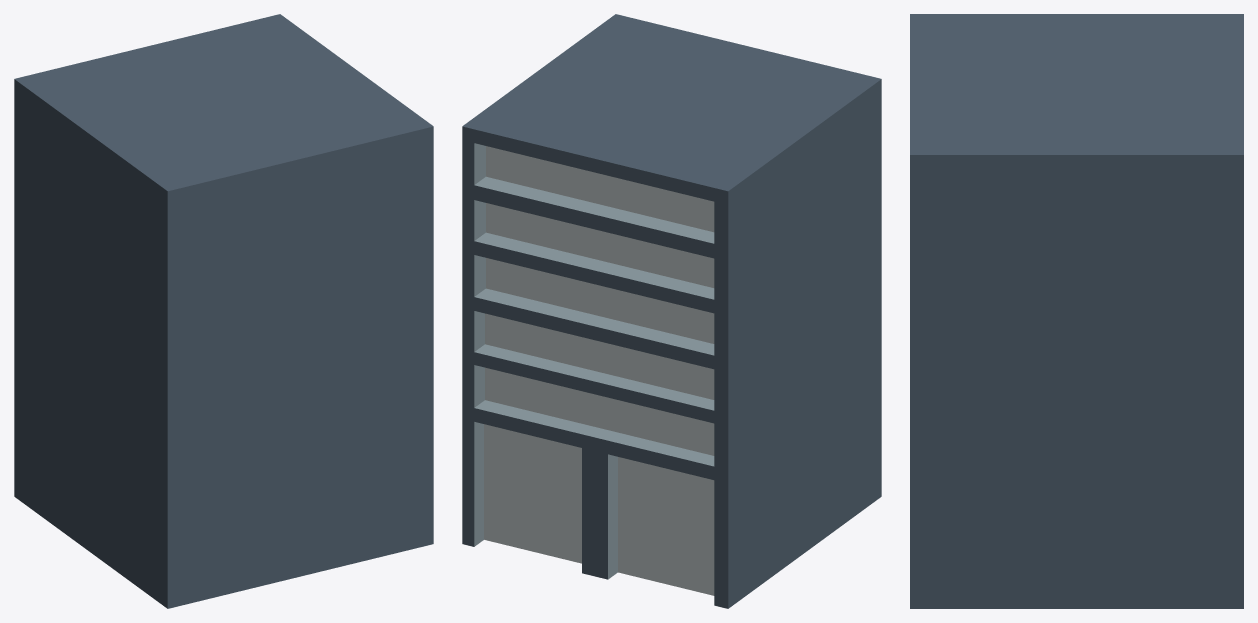
File: HorizontalWindowBuilding.fbx
3 renders of one model, left to right at view 1: azimuth 30°, elevation 25°; view 2: azimuth 150°, elevation 25°; view 3: azimuth 270°, elevation 25°, orthographic. The views are drawn at different scales.
Parts seen in each view (by area): view 1: Cube.001; view 2: Cube.001; view 3: Cube.001.
Part boxes in pixels (x1,y1,x2,y2): Cube.001: (14,14,433,608); Cube.001: (462,14,881,608); Cube.001: (910,14,1243,608).
Size of the model in its own units: 2000 by 3000 by 2000.
